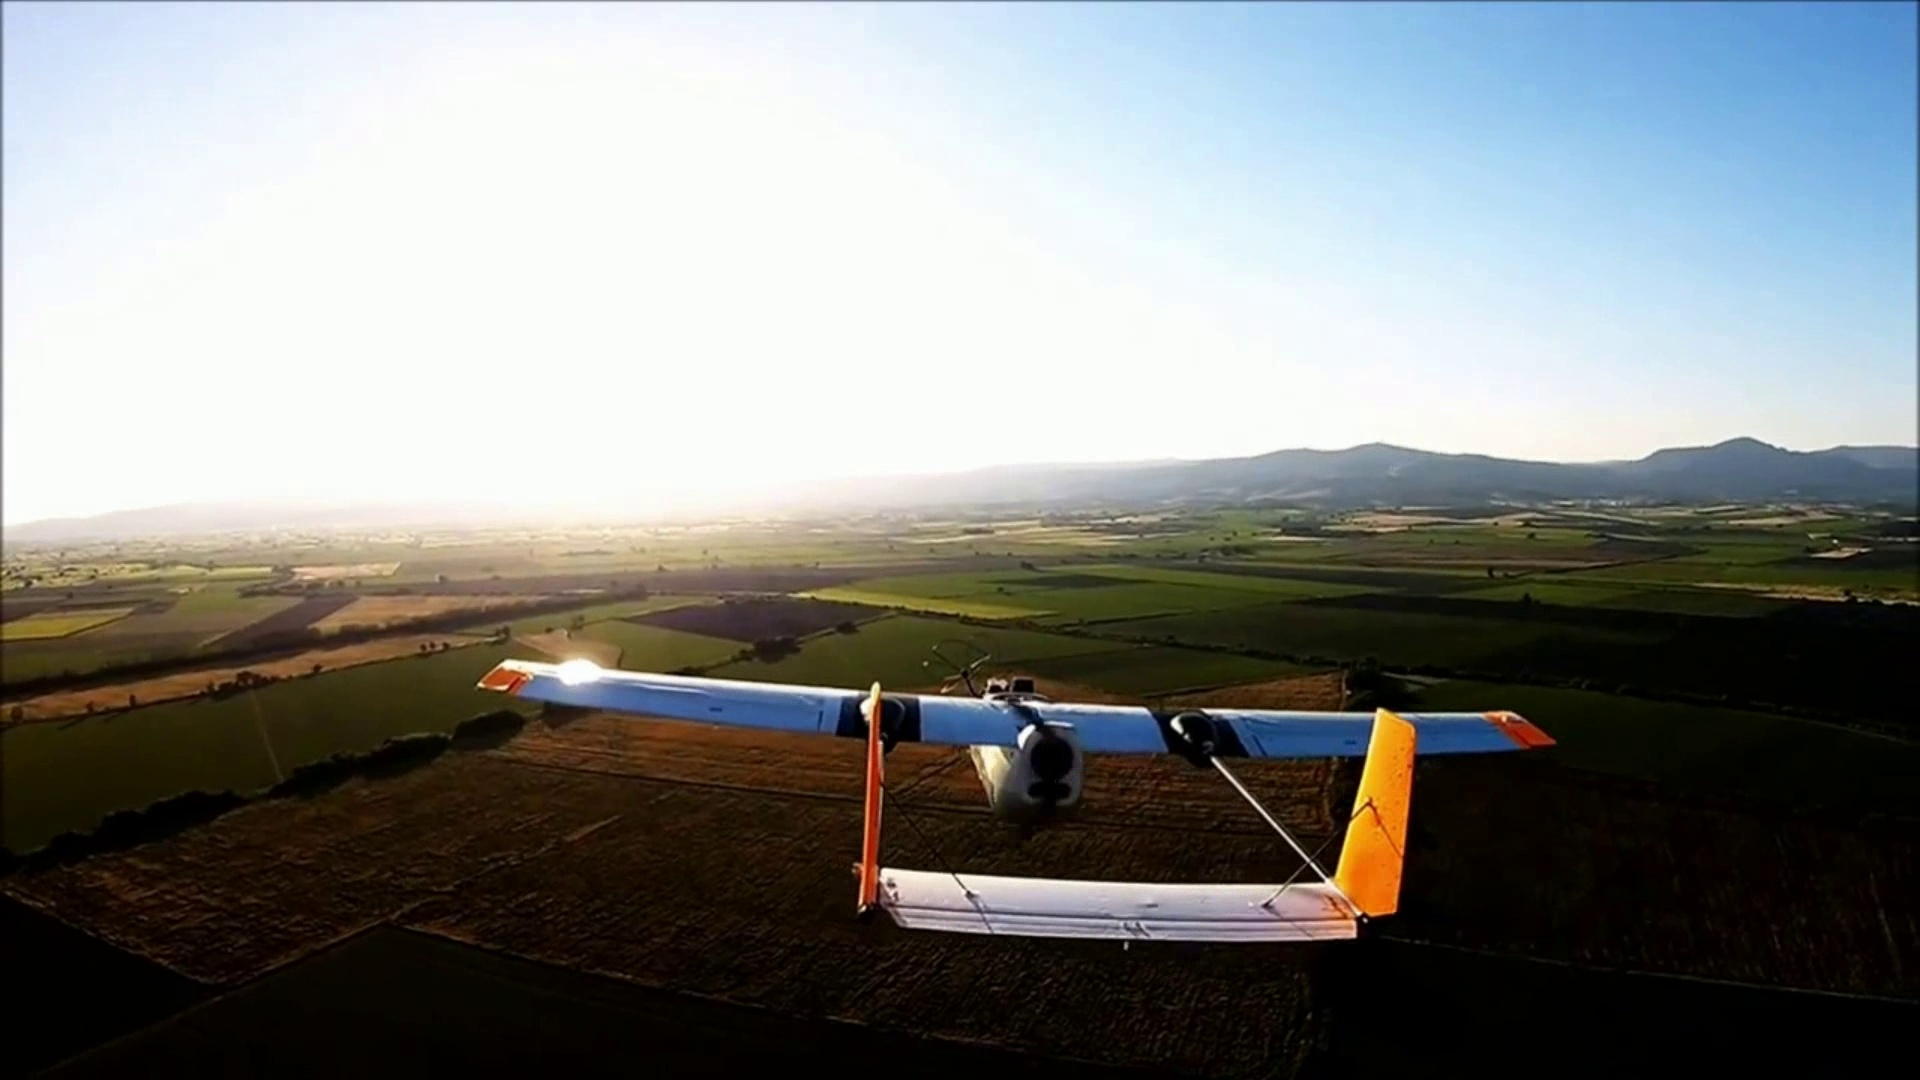airplane: (475, 653, 1553, 944)
